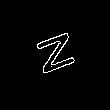N_W: (30, 28, 80, 83)
